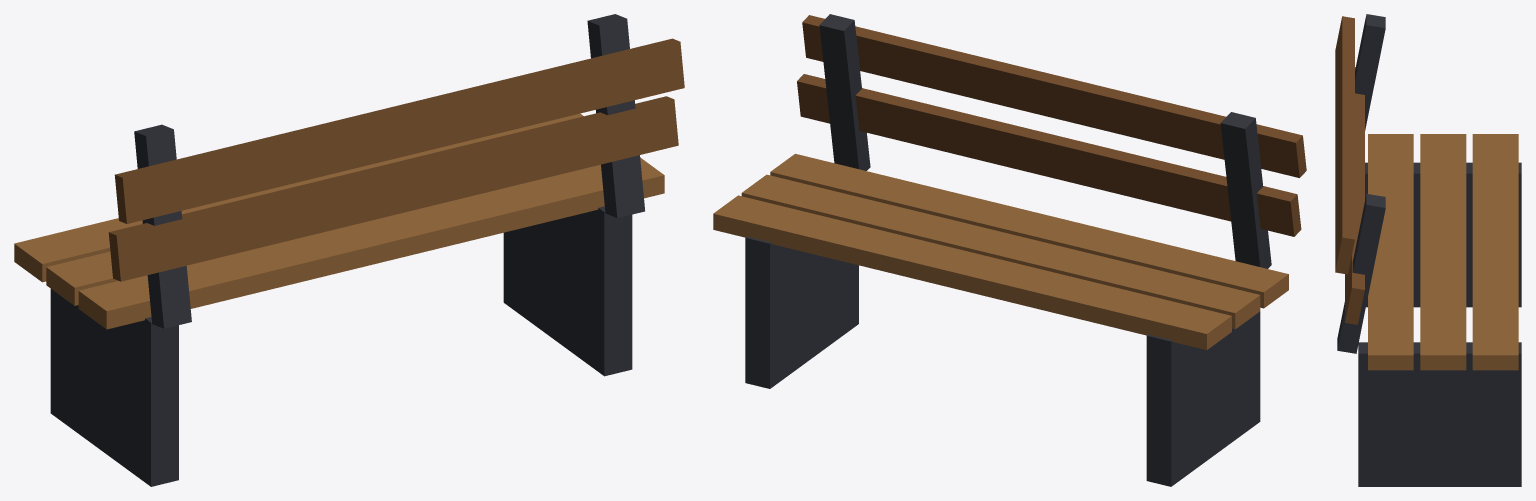
File: prop_bench_01.glb
3 views of the same model, side by side, from view 1: azimuth 30°, elevation 25°; view 2: azimuth 150°, elevation 25°; view 3: azimuth 270°, elevation 25° (orthographic). The views are drawn at different scales.
Parts seen in each view (by area): view 1: prop_bench_01; view 2: prop_bench_01; view 3: prop_bench_01.
Part boxes in pixels (bbox=[...]): prop_bench_01: bbox=[14, 14, 684, 486]; prop_bench_01: bbox=[713, 14, 1306, 486]; prop_bench_01: bbox=[1335, 14, 1521, 486].
Bounding box in the file's own units: 1.6 × 0.9513 × 0.5704.
